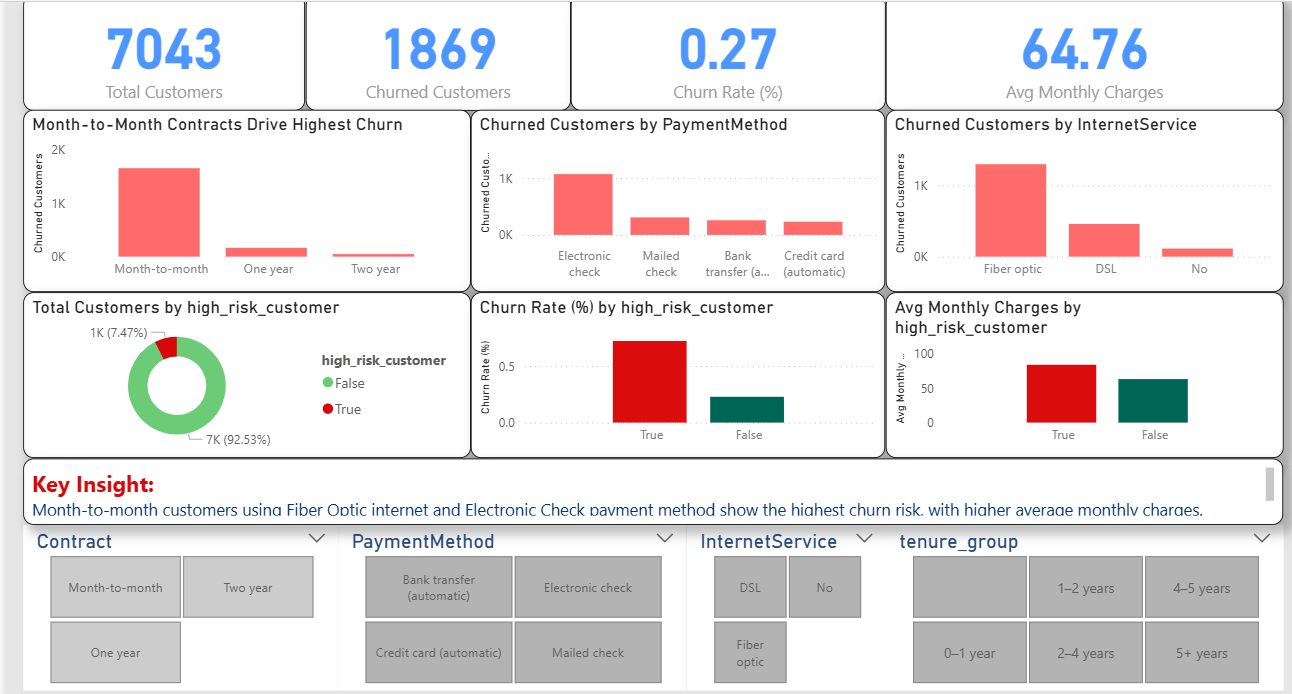

Layout of this report page (visuals, bound fields, positions):
{"tool":"powerbi","page":{"name":"Page 1","canvas":[1280,720],"ordinal":0},"visuals":[{"type":"card","fields":{"Values":["telco_churn_cleaned.Total Customers"]},"box":[16,32,272,112],"z":0},{"type":"card","fields":{"Values":["telco_churn_cleaned.Churned Customers"]},"box":[288,32,256,112],"z":1000},{"type":"card","fields":{"Values":["telco_churn_cleaned.Churn Rate (%)"]},"box":[544,32,304,112],"z":2000},{"type":"card","fields":{"Values":["telco_churn_cleaned.Avg Monthly Charges"]},"box":[848,32,384,112],"z":3000},{"type":"clusteredColumnChart","title":"Month-to-Month Contracts Drive Highest Churn","fields":{"Category":["telco_churn_cleaned.Contract"],"Y":["telco_churn_cleaned.Churned Customers"]},"box":[16,144,432,176],"z":4000},{"type":"clusteredColumnChart","fields":{"Category":["telco_churn_cleaned.PaymentMethod"],"Y":["telco_churn_cleaned.Churned Customers"]},"box":[448,144,400,176],"z":5000},{"type":"clusteredColumnChart","fields":{"Category":["telco_churn_cleaned.InternetService"],"Y":["telco_churn_cleaned.Churned Customers"]},"box":[848,144,384,176],"z":6000},{"type":"donutChart","fields":{"Category":["telco_churn_cleaned.high_risk_customer"],"Y":["telco_churn_cleaned.Total Customers"]},"box":[16,320,432,160],"z":7000},{"type":"clusteredColumnChart","fields":{"Category":["telco_churn_cleaned.high_risk_customer"],"Y":["telco_churn_cleaned.Churn Rate (%)"]},"box":[448,320,400,160],"z":8000},{"type":"clusteredColumnChart","fields":{"Category":["telco_churn_cleaned.high_risk_customer"],"Y":["telco_churn_cleaned.Avg Monthly Charges"]},"box":[848,320,384,160],"z":9000},{"type":"slicer","fields":{"Values":["telco_churn_cleaned.Contract"]},"box":[16,544,304,160],"z":10000},{"type":"slicer","fields":{"Values":["telco_churn_cleaned.PaymentMethod"]},"box":[320,544,336,160],"z":11000},{"type":"slicer","fields":{"Values":["telco_churn_cleaned.InternetService"]},"box":[656,544,192,160],"z":12000},{"type":"slicer","fields":{"Values":["telco_churn_cleaned.tenure_group"]},"box":[848,544,384,160],"z":13000},{"type":"textbox","box":[16,480,1216,64],"z":14000}]}

Visuals, with their boxes in screenshot pixels (x1, y1, x2, y2):
card - telco_churn_cleaned.Total Customers: box=[33, 0, 311, 110]
card - telco_churn_cleaned.Churned Customers: box=[311, 0, 572, 110]
card - telco_churn_cleaned.Churn Rate (%): box=[572, 0, 882, 110]
card - telco_churn_cleaned.Avg Monthly Charges: box=[882, 0, 1274, 110]
"Month-to-Month Contracts Drive Highest Churn" clusteredColumnChart: box=[33, 110, 474, 290]
clusteredColumnChart - telco_churn_cleaned.PaymentMethod x telco_churn_cleaned.Churned Customers: box=[474, 110, 882, 290]
clusteredColumnChart - telco_churn_cleaned.InternetService x telco_churn_cleaned.Churned Customers: box=[882, 110, 1274, 290]
donutChart - telco_churn_cleaned.high_risk_customer x telco_churn_cleaned.Total Customers: box=[33, 290, 474, 453]
clusteredColumnChart - telco_churn_cleaned.high_risk_customer x telco_churn_cleaned.Churn Rate (%): box=[474, 290, 882, 453]
clusteredColumnChart - telco_churn_cleaned.high_risk_customer x telco_churn_cleaned.Avg Monthly Charges: box=[882, 290, 1274, 453]
slicer - telco_churn_cleaned.Contract: box=[33, 518, 343, 681]
slicer - telco_churn_cleaned.PaymentMethod: box=[343, 518, 686, 681]
slicer - telco_churn_cleaned.InternetService: box=[686, 518, 882, 681]
slicer - telco_churn_cleaned.tenure_group: box=[882, 518, 1274, 681]
textbox: box=[33, 453, 1274, 518]
